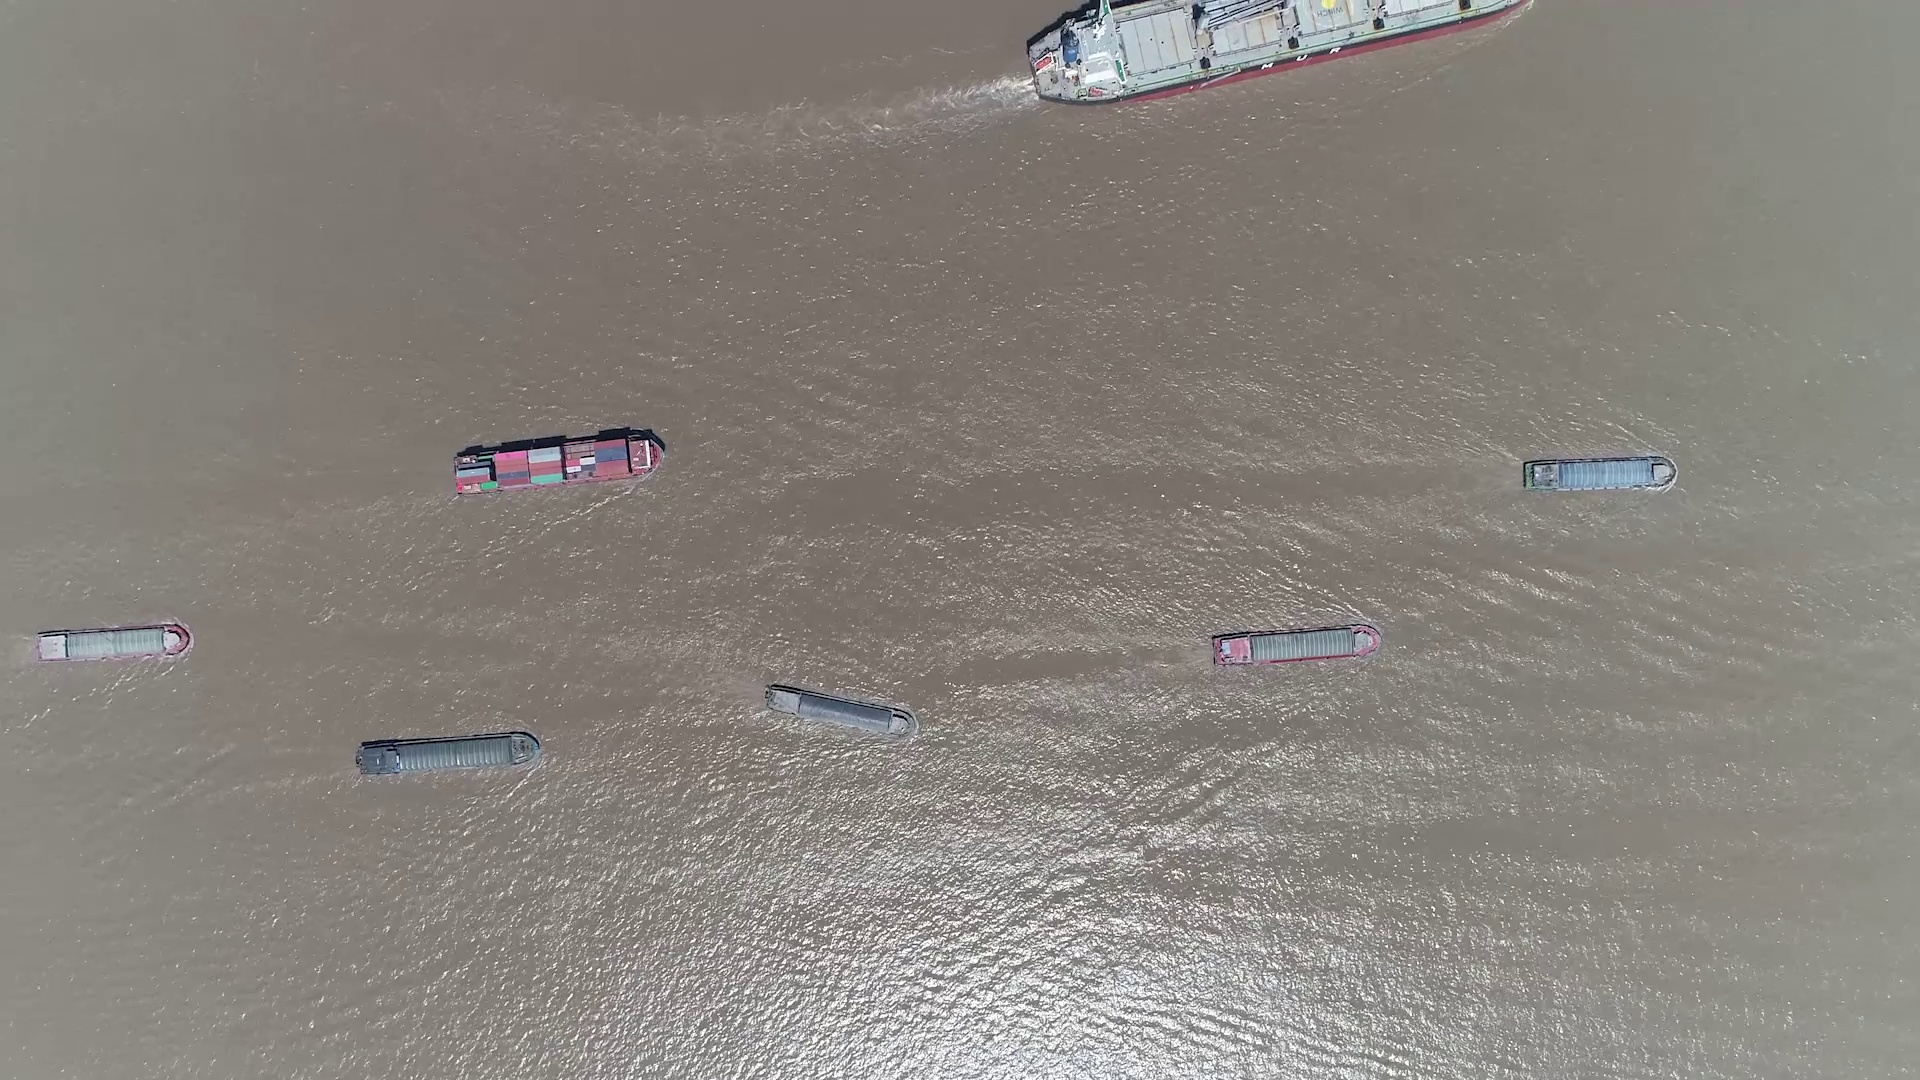ship: (1025, 1, 1527, 103), (454, 429, 665, 497), (762, 682, 915, 738), (357, 731, 543, 777), (1211, 622, 1381, 667), (34, 622, 190, 662), (1524, 458, 1673, 491)
